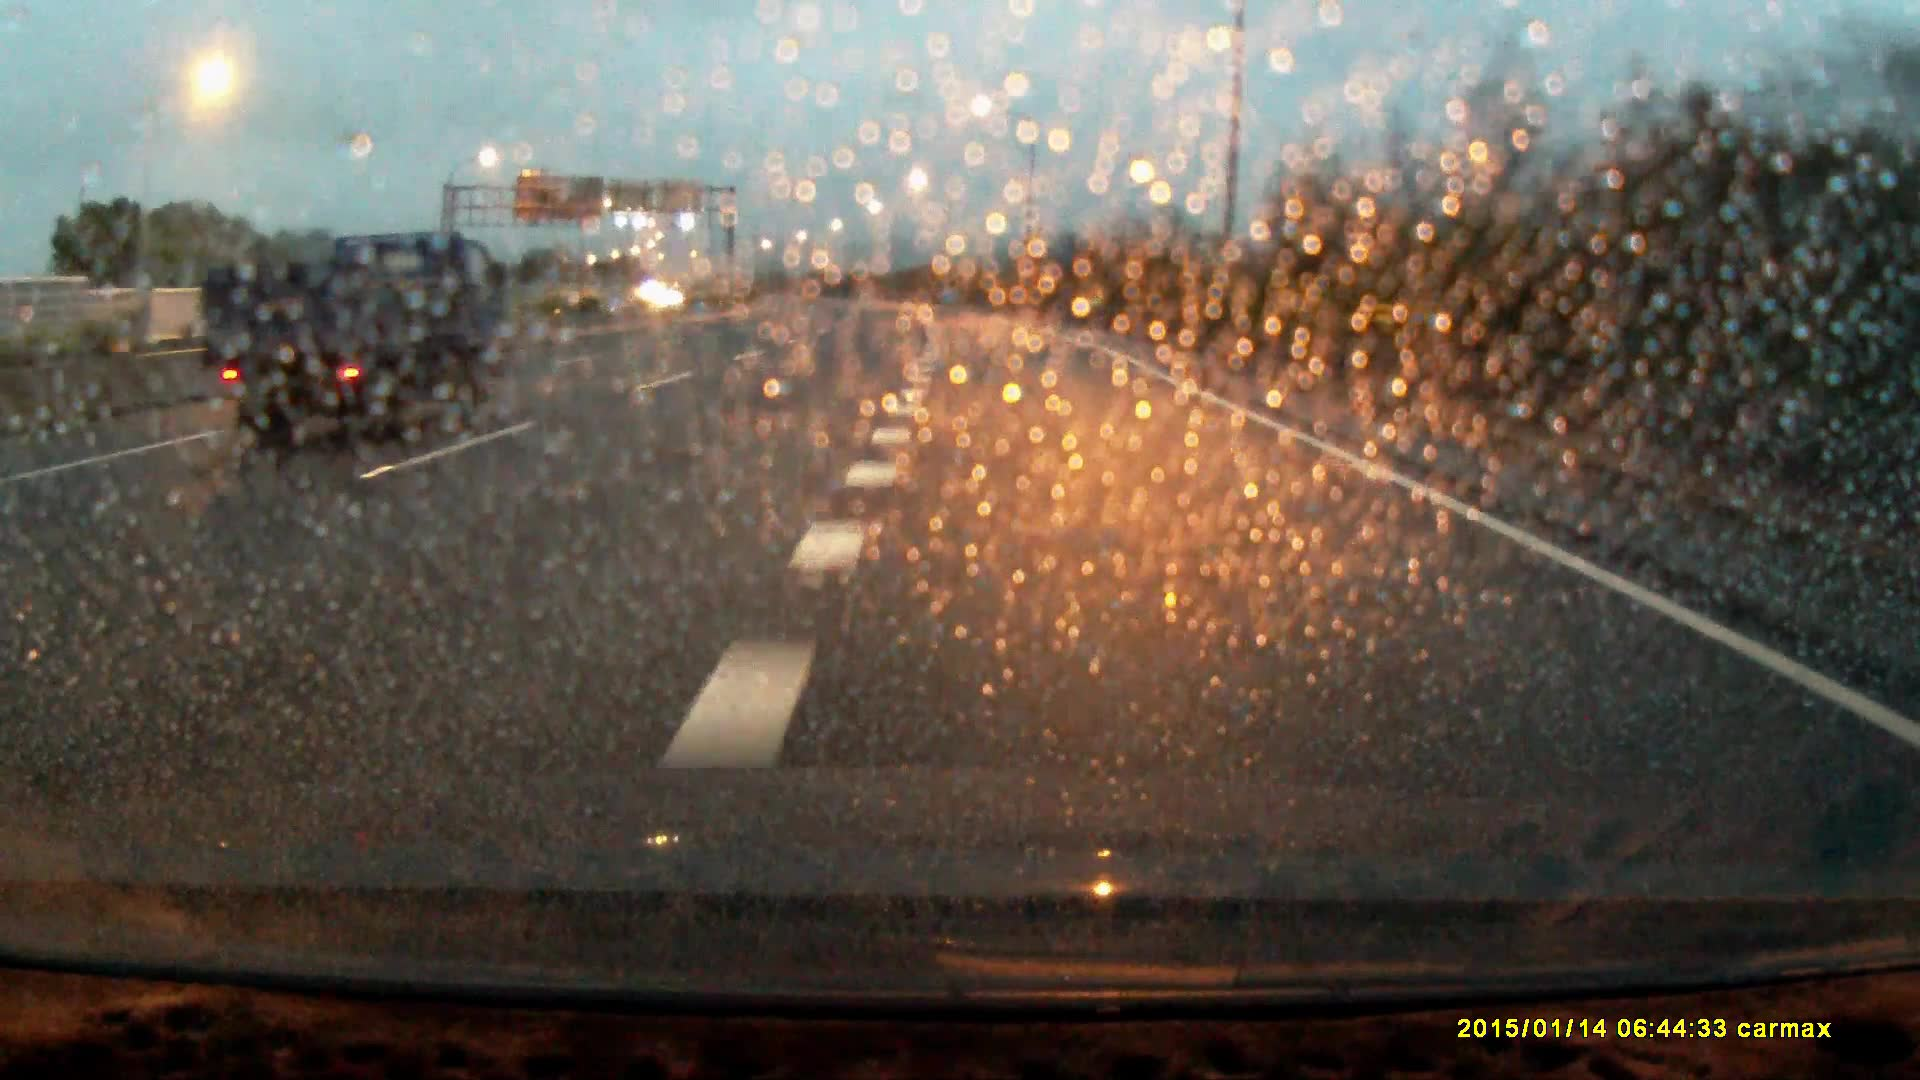vehicle: (210, 233, 488, 460)
